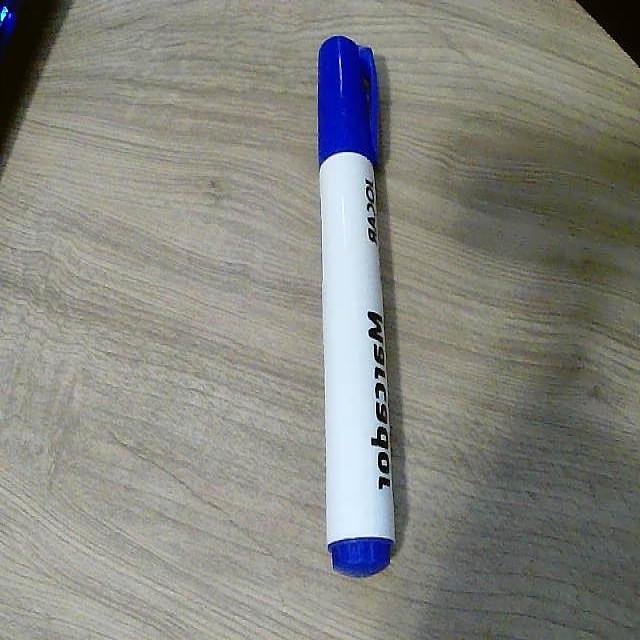caneta: (301, 23, 412, 591)
